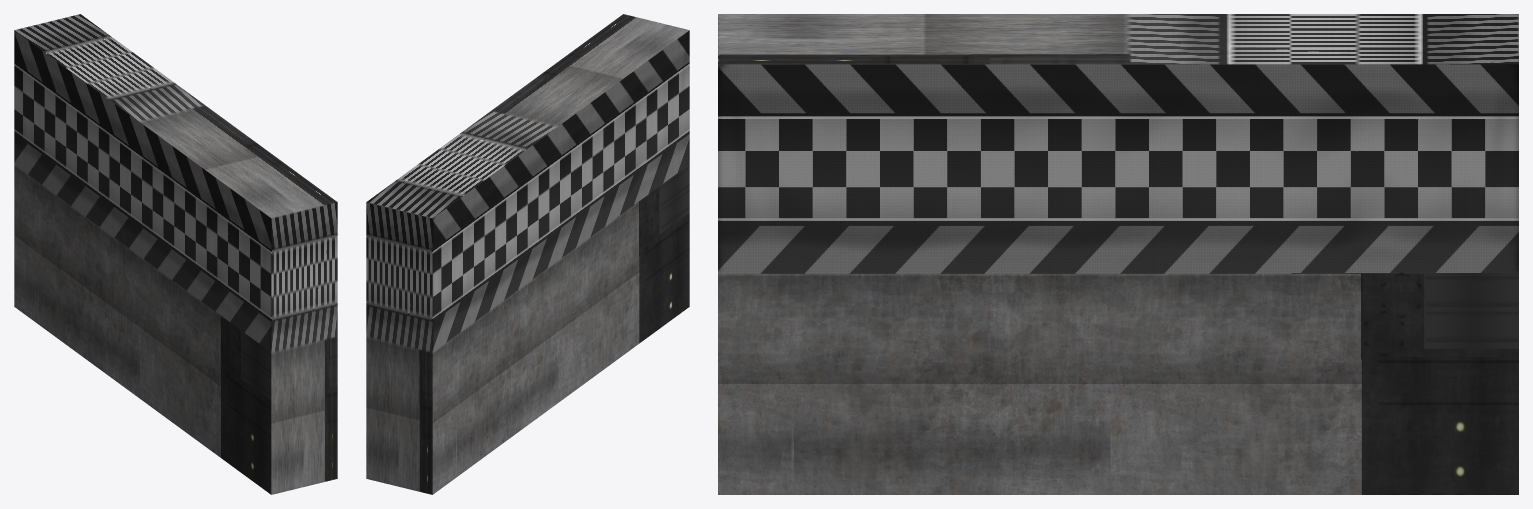
Rendered from gate_finish.DAE.
3 renders of one model, left to right at view 1: azimuth 30°, elevation 25°; view 2: azimuth 150°, elevation 25°; view 3: azimuth 270°, elevation 25°, orthographic. The views are drawn at different scales.
Parts seen in each view (by area): view 1: bounds; view 2: bounds; view 3: bounds.
Boxes of the visible parts, bbox=[...] form: bounds: bbox=[14, 14, 337, 494]; bounds: bbox=[366, 14, 689, 494]; bounds: bbox=[718, 14, 1518, 494].
Bounding box in the file's own units: 4.82 × 32.39 × 19.22.
